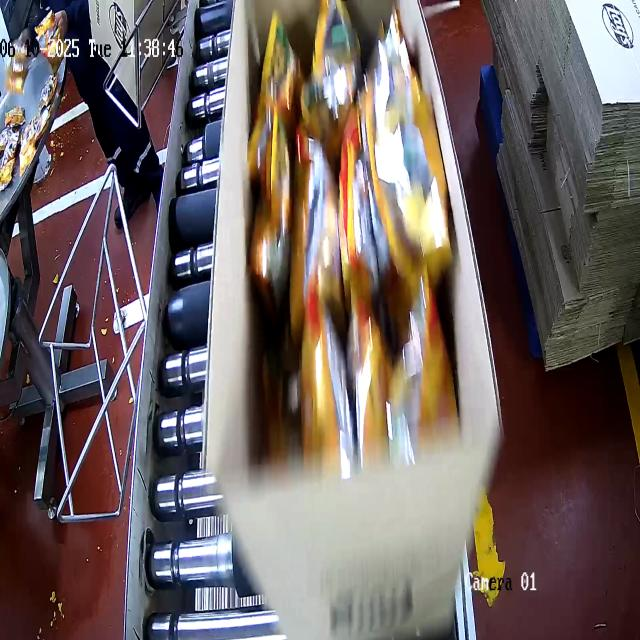FRENCH_CHEESE: (249, 0, 433, 451)
